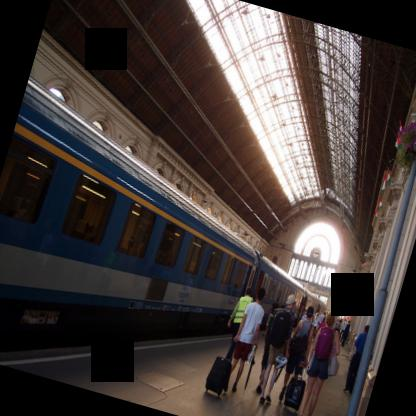backpack: (268, 310, 293, 348), (289, 323, 313, 361), (314, 326, 336, 363)
handbag: (328, 343, 340, 377), (343, 321, 345, 327)
suitcase: (205, 340, 238, 397), (284, 364, 307, 412)
